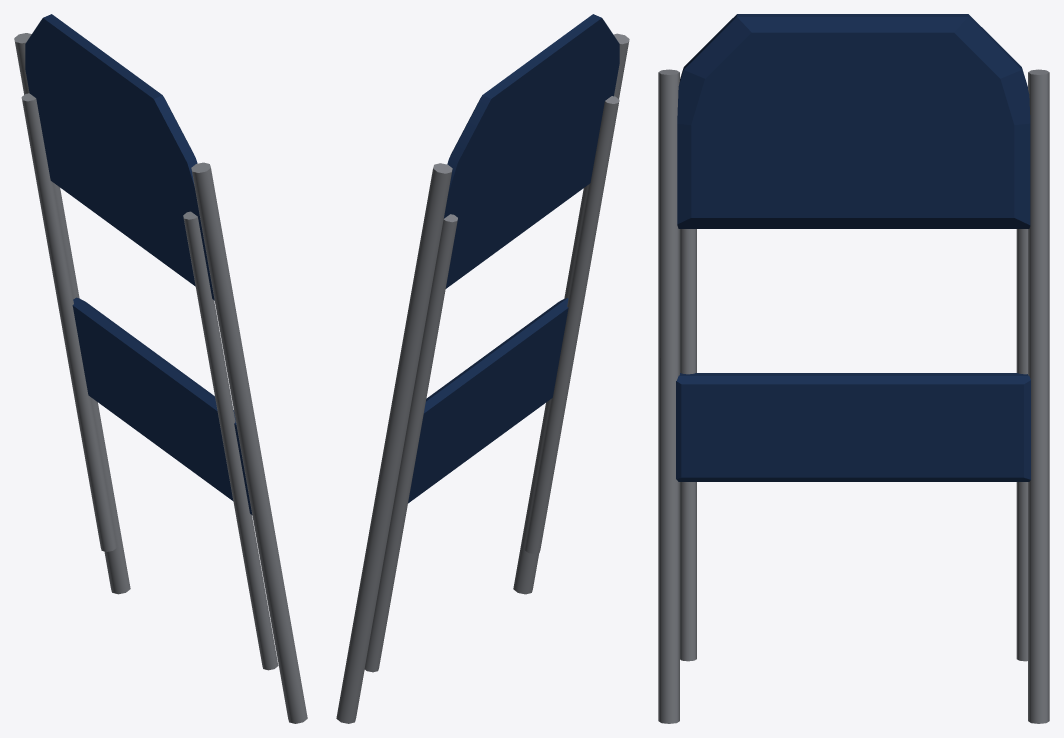
Rendered from SM_seat_folded.fbx.
3 views of the same model, side by side, from view 1: azimuth 30°, elevation 25°; view 2: azimuth 150°, elevation 25°; view 3: azimuth 270°, elevation 25° (orthographic). The views are drawn at different scales.
Parts seen in each view (by area): view 1: seat_folded; view 2: seat_folded; view 3: seat_folded.
Part boxes in pixels (x1=…): seat_folded: x1=14, y1=14, x2=307, y2=723; seat_folded: x1=336, y1=14, x2=629, y2=723; seat_folded: x1=658, y1=14, x2=1049, y2=723.
Bounding box in the file's own units: 39.61 × 197 × 107.
